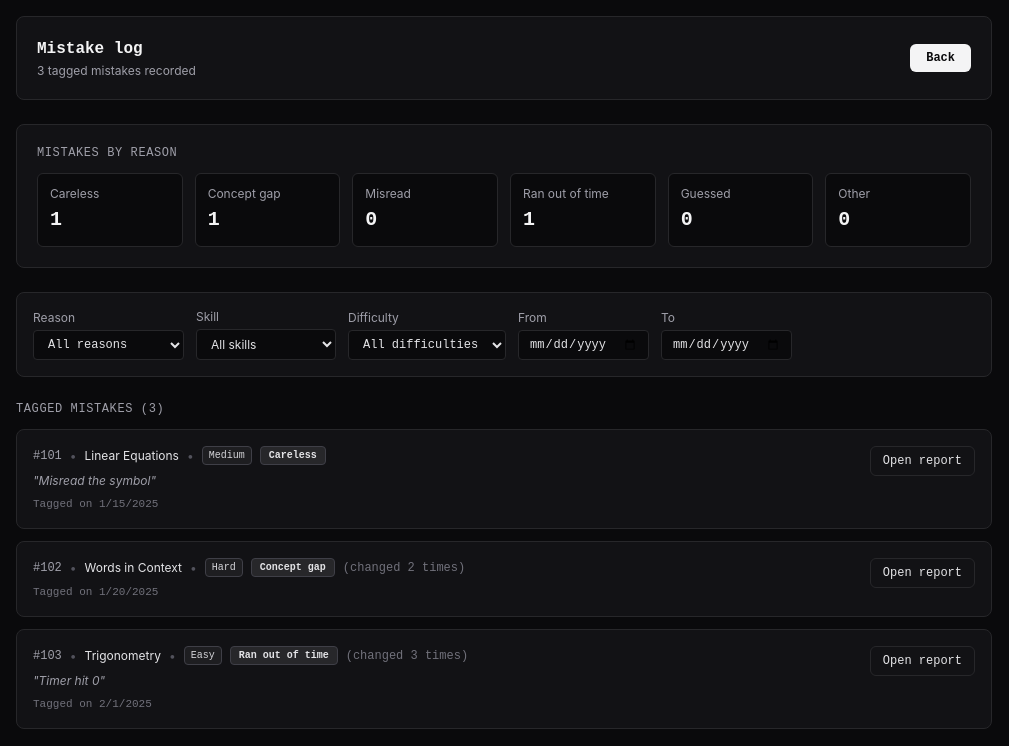
Test: MistakeLogScreen › displays honest empty state when filters match nothing
The width and height of the screenshot is (1009, 746).
Select "Guessed" in the dropdown named "Filter by reason": (108, 345) [33,330,184,360]
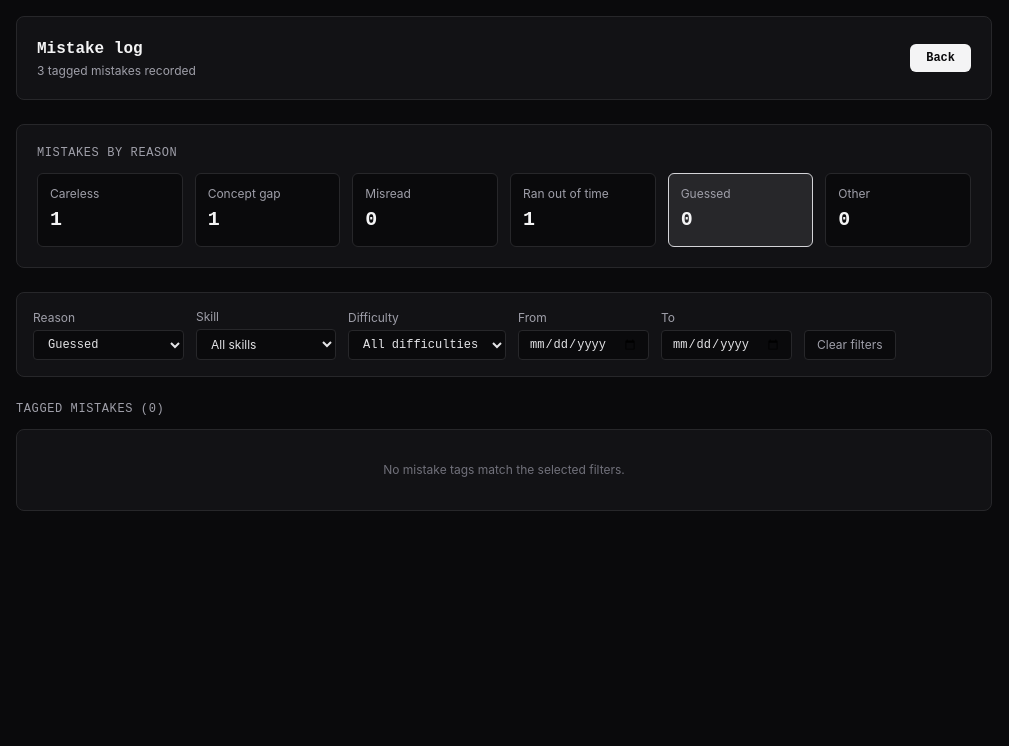
Check: the text "No mistake tags match the selected filters." is shown, box [16,429,992,511]
